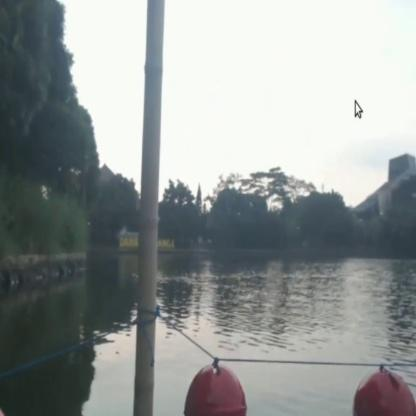red_buoy: (346, 367, 416, 415), (180, 364, 250, 410)
